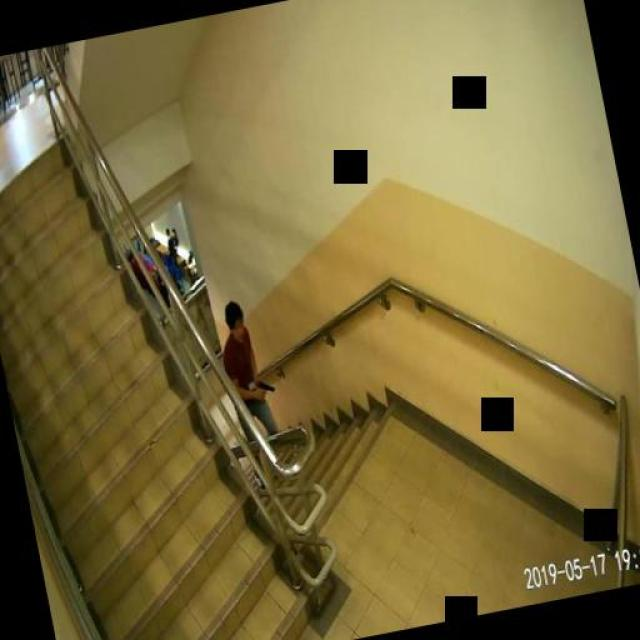gun: (255, 378, 275, 400)
